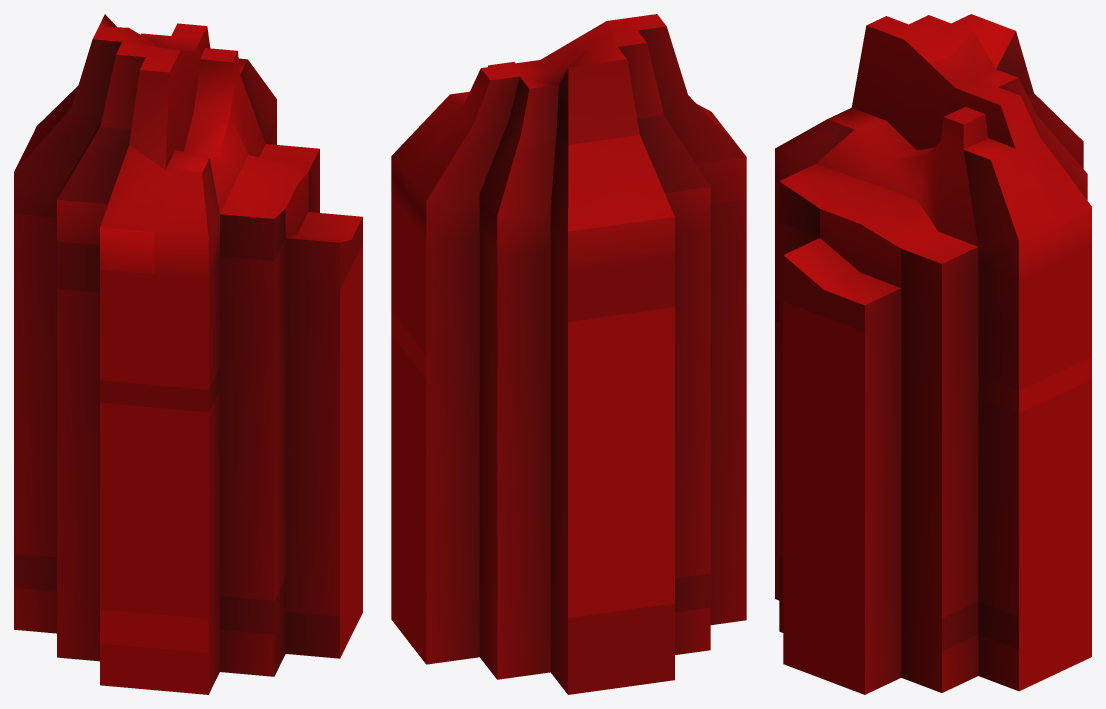
Rendered from buildings-ruins-templeruins_v4.fbx.
The picture shows the model from 3 angles, left to right: view 1: azimuth 30°, elevation 25°; view 2: azimuth 150°, elevation 25°; view 3: azimuth 270°, elevation 25°; orthographic projection. The views are drawn at different scales.
Parts seen in each view (by area): view 1: TempleRuins_v4; view 2: TempleRuins_v4; view 3: TempleRuins_v4.
Part boxes in pixels (box(x1,y1,x2,y2)): TempleRuins_v4: box(14, 14, 362, 694); TempleRuins_v4: box(391, 14, 746, 694); TempleRuins_v4: box(775, 14, 1091, 694).
Bounding box in the file's own units: 4.18 × 8.41 × 4.18.
